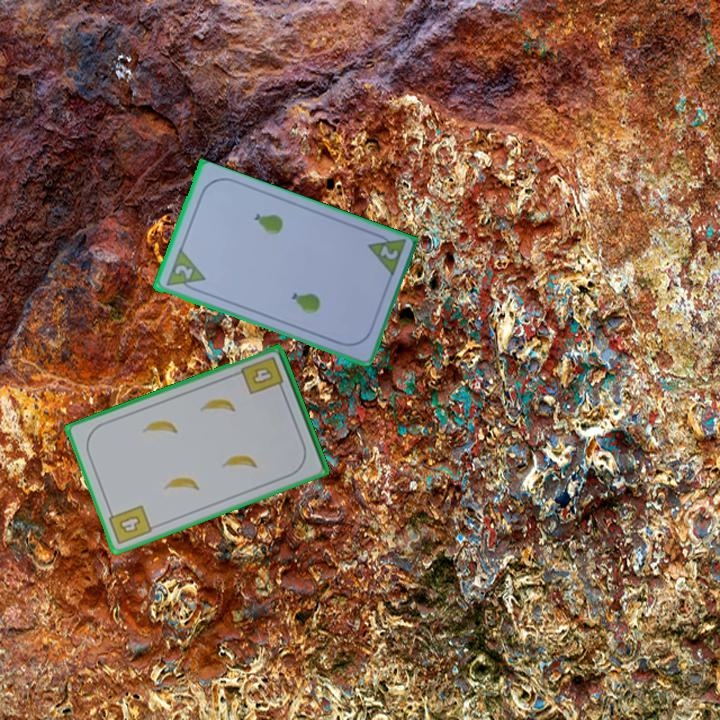2p: (363, 228, 409, 280), (171, 261, 196, 283)
4b: (104, 502, 155, 548), (238, 353, 287, 398)
